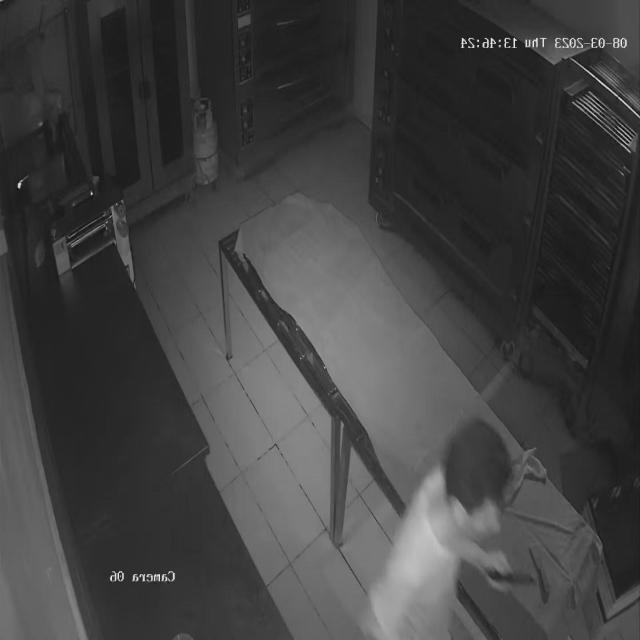Knife: (488, 557, 554, 603)
